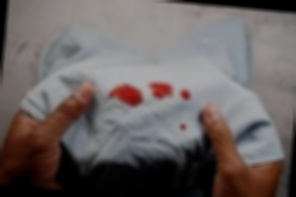blood: (110, 83, 142, 105), (149, 81, 173, 100), (180, 89, 191, 100), (180, 123, 188, 130)
